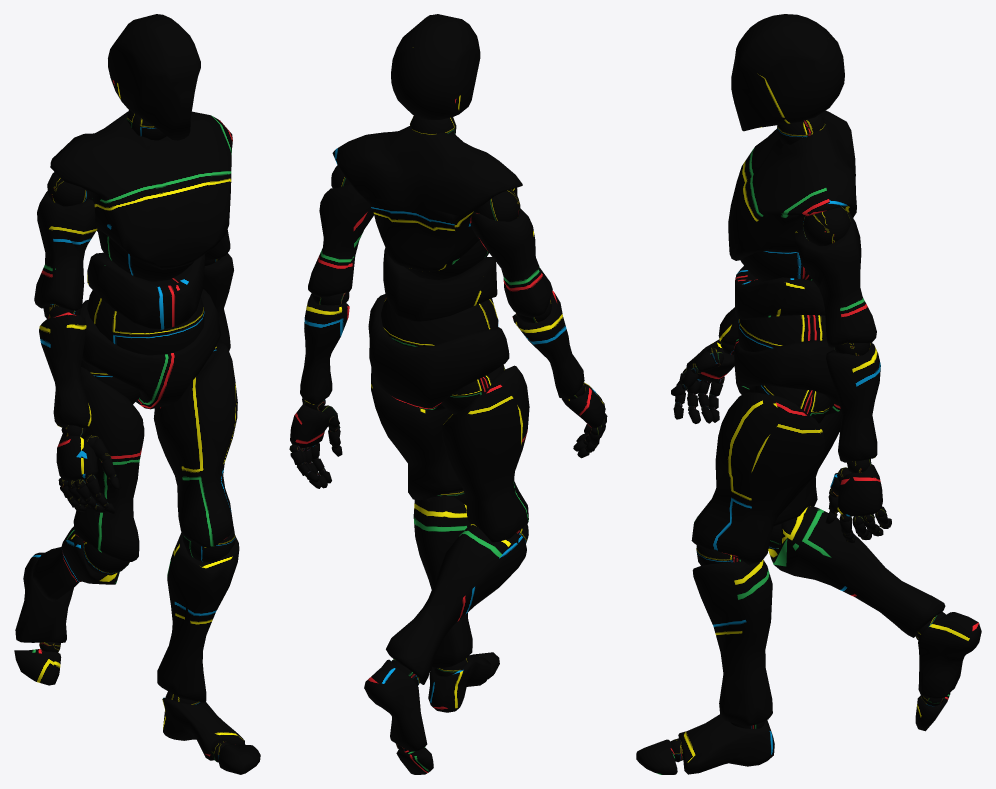
The model's file is y-bot-origin_000025.obj.
The picture shows the model from 3 angles, left to right: view 1: azimuth 30°, elevation 25°; view 2: azimuth 150°, elevation 25°; view 3: azimuth 270°, elevation 25°; orthographic projection. The views are drawn at different scales.
Parts seen in each view (by area): view 1: Alpha_Surface_Alpha_SurfaceMesh, Alpha_Joints_Alpha_JointsMesh; view 2: Alpha_Surface_Alpha_SurfaceMesh, Alpha_Joints_Alpha_JointsMesh; view 3: Alpha_Surface_Alpha_SurfaceMesh, Alpha_Joints_Alpha_JointsMesh.
Part boxes in pixels (bbox=[...]): Alpha_Surface_Alpha_SurfaceMesh: bbox=[14, 14, 260, 774]; Alpha_Joints_Alpha_JointsMesh: bbox=[39, 110, 235, 762]; Alpha_Surface_Alpha_SurfaceMesh: bbox=[290, 14, 606, 774]; Alpha_Joints_Alpha_JointsMesh: bbox=[289, 115, 607, 750]; Alpha_Surface_Alpha_SurfaceMesh: bbox=[636, 14, 981, 774]; Alpha_Joints_Alpha_JointsMesh: bbox=[670, 113, 945, 762].
Bounding box in the file's own units: 0.6269 × 1.77 × 0.75.
